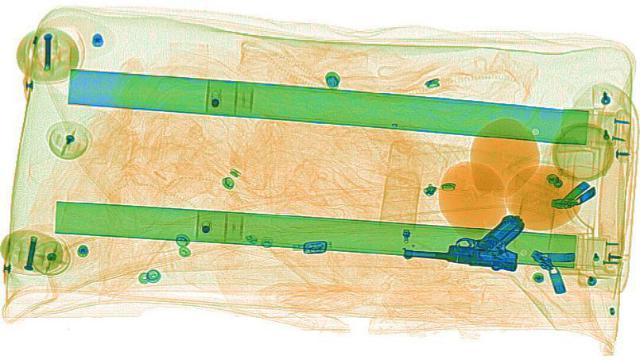Gun: (399, 207, 525, 268)
